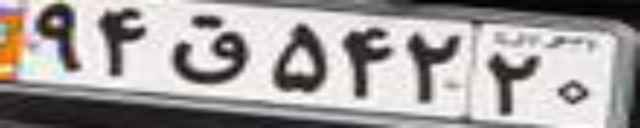0: (550, 78, 594, 106)
2: (405, 30, 467, 103), (484, 50, 543, 116)
4: (338, 27, 398, 98), (94, 7, 152, 76)
5: (270, 21, 325, 93)
9: (34, 1, 80, 73)
ghaf: (173, 13, 248, 84)
